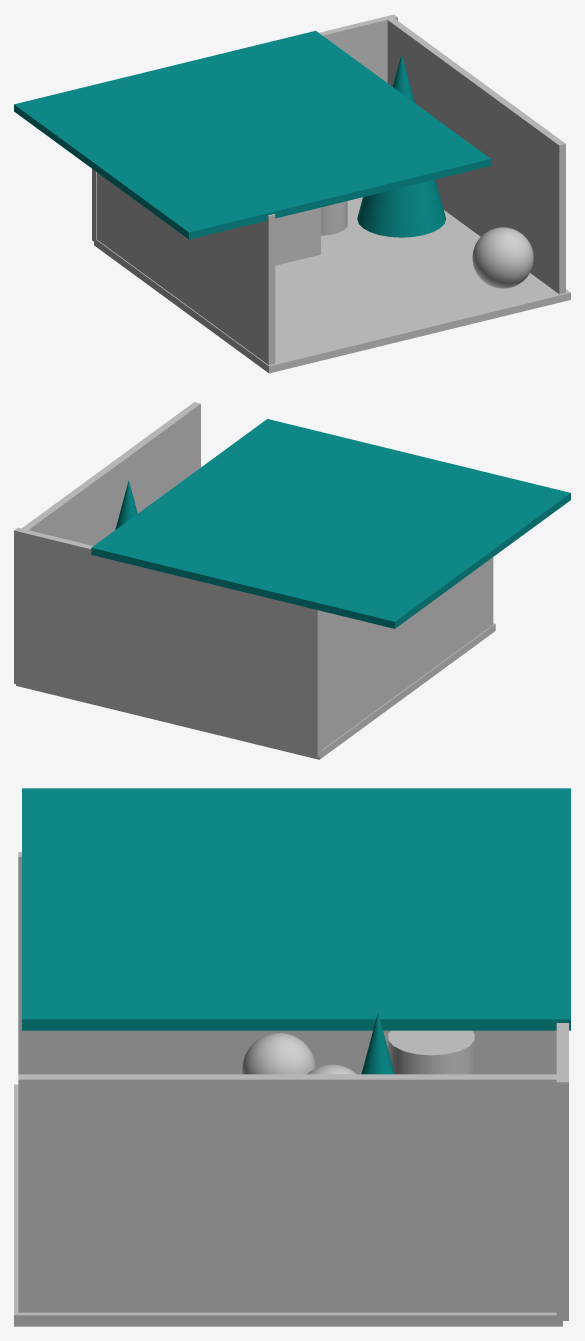
The picture shows the model from 3 angles, top to bottom: view 1: azimuth 30°, elevation 25°; view 2: azimuth 150°, elevation 25°; view 3: azimuth 270°, elevation 25°; orthographic projection. The views are drawn at different scales.
Visible parts, largest first — view 1: Box006, Box005, Box003, Box004, Cone001, Sphere003, Box002, Box001, Cylinder001; view 2: Box006, Box002, Box004, Box003, Box005, Cone001; view 3: Box006, Box003, Box004, Box005, Box002, Cylinder001, Sphere001, Cone001.
Part boxes in pixels (<box>): Box006: <box>14,30,490,239</box>; Box005: <box>94,197,570,373</box>; Box003: <box>387,18,565,294</box>; Box004: <box>97,172,275,364</box>; Cone001: <box>357,54,445,237</box>; Sphere003: <box>472,227,533,288</box>; Box002: <box>92,14,397,241</box>; Box001: <box>275,207,320,265</box>; Cylinder001: <box>321,201,347,235</box>; Box006: <box>91,419,570,628</box>; Box002: <box>14,527,321,757</box>; Box004: <box>321,557,493,749</box>; Box003: <box>19,402,200,545</box>; Box005: <box>16,623,495,759</box>; Cone001: <box>115,480,137,529</box>; Box006: <box>22,788,570,1030</box>; Box003: <box>18,1074,556,1312</box>; Box004: <box>18,852,556,1074</box>; Box005: <box>14,1084,562,1326</box>; Box002: <box>556,1023,568,1320</box>; Cylinder001: <box>388,1030,474,1074</box>; Sphere001: <box>242,1033,315,1074</box>; Cone001: <box>361,1013,394,1074</box>.
Size of the model in its own units: 7.05 by 3.1 by 5.72.
